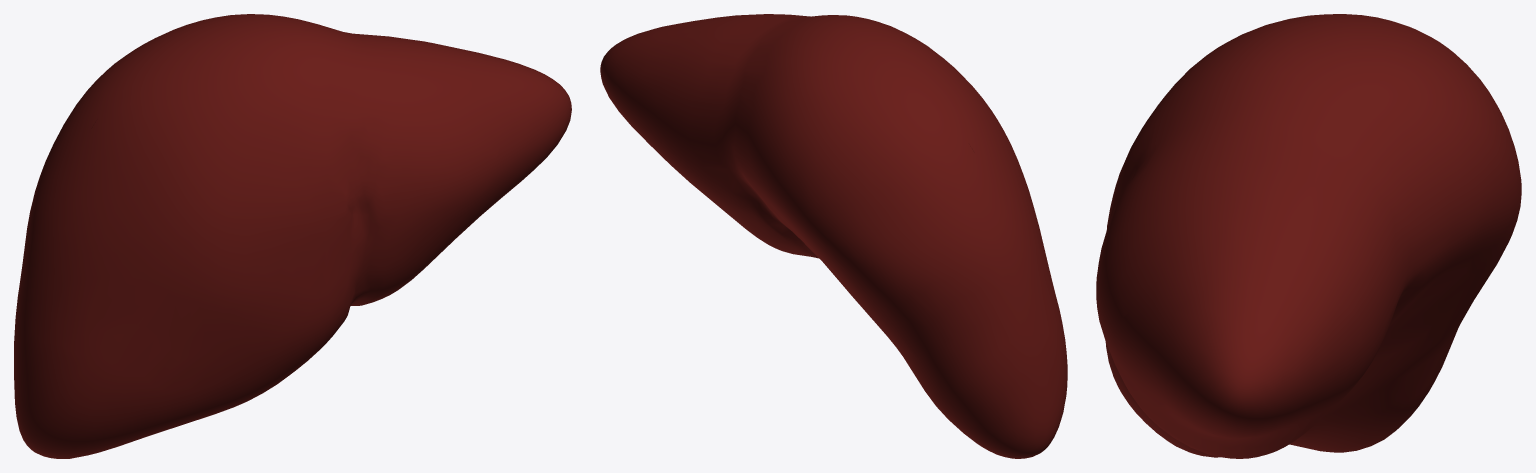
Rendered from liver.glb.
3 views of the same model, side by side, from view 1: azimuth 30°, elevation 25°; view 2: azimuth 150°, elevation 25°; view 3: azimuth 270°, elevation 25° (orthographic). The views are drawn at different scales.
Visible parts, largest first — view 1: liver; view 2: liver; view 3: liver.
Part boxes in pixels (x1,y1,x2,y2): liver: (14,14,571,458); liver: (600,14,1067,458); liver: (1096,14,1521,458).
Bounding box in the file's own units: 1.18 × 0.8621 × 0.6281.
1 material, 1 textured.
